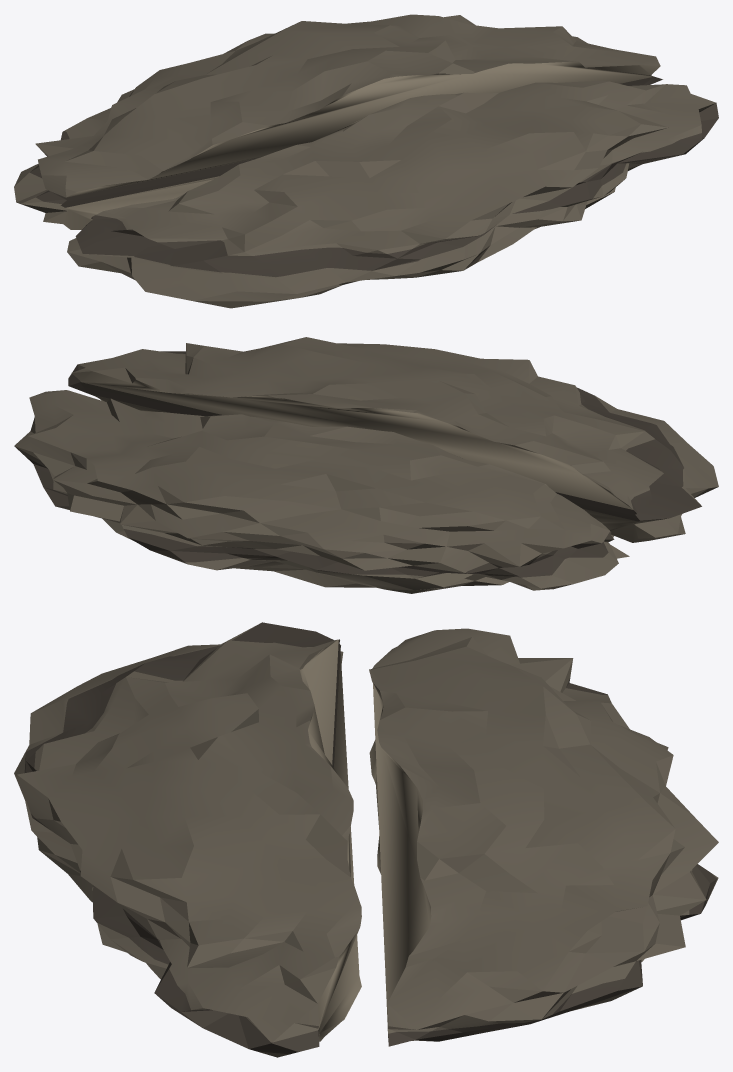
Rendered from cleaved_slab_lod0.glb.
3 renders of one model, top to bottom at view 1: azimuth 30°, elevation 25°; view 2: azimuth 150°, elevation 25°; view 3: azimuth 270°, elevation 25°, orthographic. The views are drawn at different scales.
Parts seen in each view (by area): view 1: LOD0_Stone, LOD0_Stone_strata, LOD0_Stone_cut; view 2: LOD0_Stone, LOD0_Stone_strata, LOD0_Stone_cut; view 3: LOD0_Stone, LOD0_Stone_cut, LOD0_Stone_strata.
Boxes of the visible parts, x1=… form: LOD0_Stone: x1=14, y1=14, x2=715, y2=308; LOD0_Stone_strata: x1=30, y1=76, x2=718, y2=277; LOD0_Stone_cut: x1=43, y1=61, x2=660, y2=229; LOD0_Stone: x1=14, y1=337, x2=718, y2=593; LOD0_Stone_strata: x1=26, y1=351, x2=701, y2=577; LOD0_Stone_cut: x1=72, y1=371, x2=655, y2=542; LOD0_Stone: x1=14, y1=625, x2=718, y2=1057; LOD0_Stone_cut: x1=300, y1=639, x2=431, y2=1041; LOD0_Stone_strata: x1=24, y1=622, x2=716, y2=1054.
Size of the model in its own units: 3.65 by 0.5759 by 2.64.
